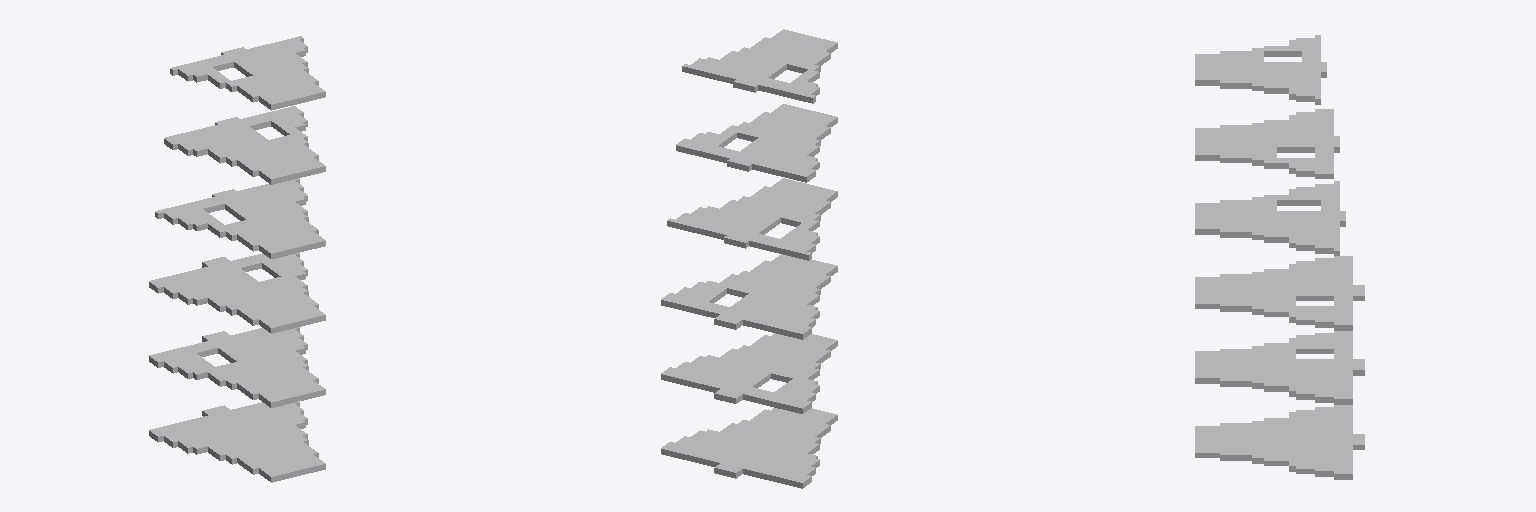
Rendered from Tower Floors.obj.
The picture shows the model from 3 angles: view 1: azimuth 30°, elevation 25°; view 2: azimuth 150°, elevation 25°; view 3: azimuth 270°, elevation 25°; orthographic projection.
Visible parts, largest first — view 1: Light House (Full Size)-4; view 2: Light House (Full Size)-4; view 3: Light House (Full Size)-4.
Part boxes in pixels (left/top/right/bottom): Light House (Full Size)-4: left=149, top=36, right=325, bottom=482; Light House (Full Size)-4: left=661, top=29, right=837, bottom=488; Light House (Full Size)-4: left=1195, top=35, right=1364, bottom=479.
Size of the model in its own units: 26 by 66 by 27.